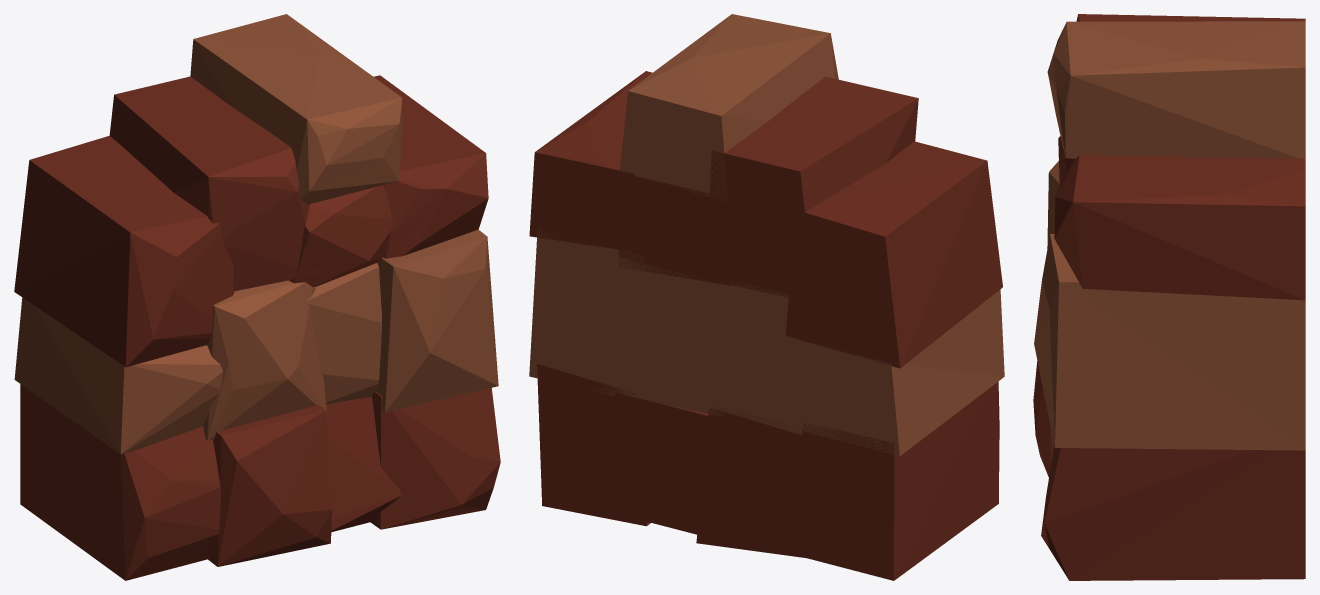
Rendered from acantilado_rojo.fbx.
3 views of the same model, side by side, from view 1: azimuth 30°, elevation 25°; view 2: azimuth 150°, elevation 25°; view 3: azimuth 270°, elevation 25° (orthographic). The views are drawn at different scales.
Parts seen in each view (by area): view 1: acantilado_rojo; view 2: acantilado_rojo; view 3: acantilado_rojo.
Boxes of the visible parts, <box> form: acantilado_rojo: <box>14,14,500,580</box>; acantilado_rojo: <box>529,14,1004,580</box>; acantilado_rojo: <box>1033,14,1305,580</box>.
Size of the model in its own units: 11.02 by 12.41 by 6.54.
